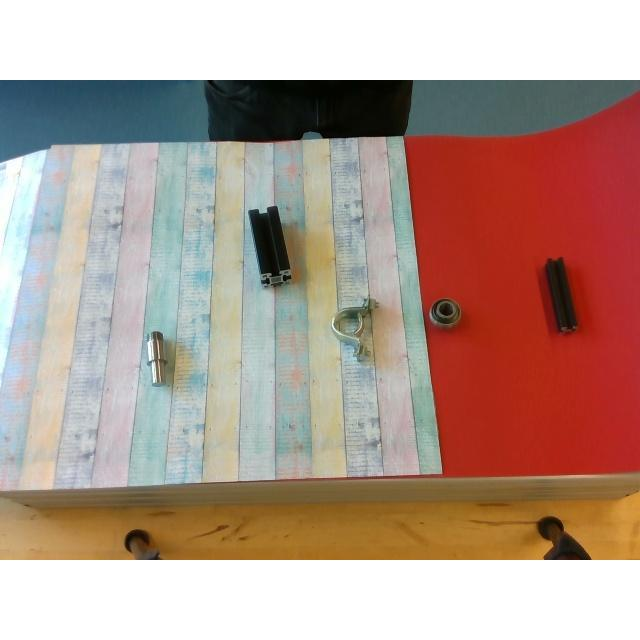Axis2: (142, 331, 166, 383)
Bearing2: (428, 298, 459, 324)
F20_20_B: (545, 259, 577, 331)
Housing: (330, 298, 378, 354)
S40_40_B: (248, 207, 290, 286)
